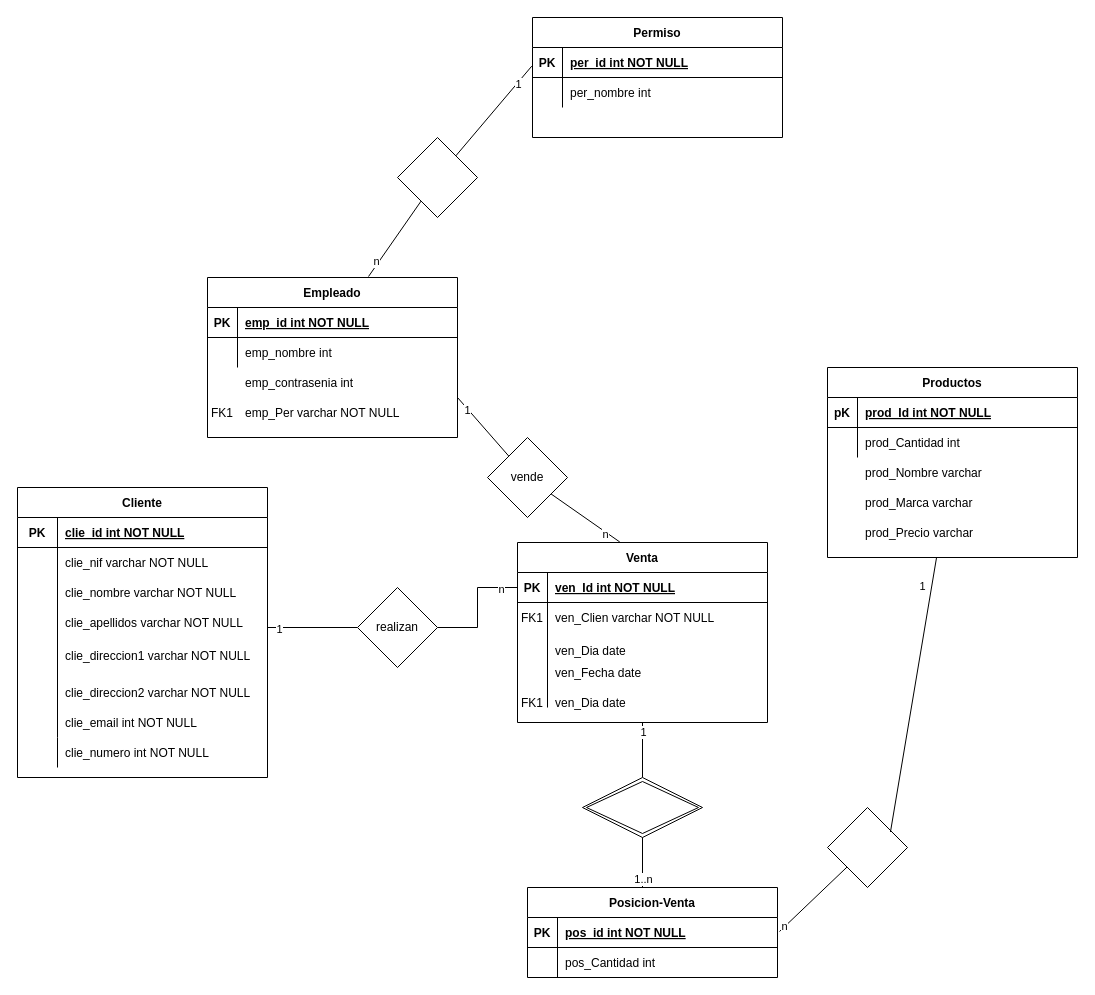
The diagram is 1095 pixels wide and 995 high, and some of its shapes have lost their labels. The centre of each missing label's shape, as x and y in pixels:
"Compuesta por" goes at point 642,807.
"contienen" goes at point 867,847.
"Tiene" goes at point 437,177.
